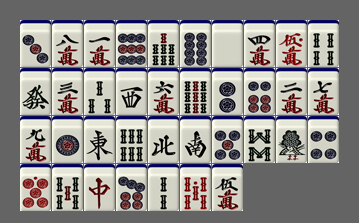0m: (276, 20, 307, 67)
0p: (20, 164, 51, 211)
0s: (180, 164, 211, 211)
1m: (84, 20, 115, 67)
1p: (52, 116, 83, 163)
1s: (276, 116, 307, 163)
1z: (84, 116, 115, 163)
2m: (276, 68, 307, 115)
2p: (212, 68, 243, 115)
2s: (148, 164, 179, 211)
2z: (180, 116, 211, 163)
3m: (52, 68, 83, 115)
3p: (20, 20, 51, 67)
3s: (84, 68, 115, 115)
3z: (116, 68, 147, 115)
4m: (244, 20, 275, 67)
4p: (308, 116, 339, 163)
4s: (308, 20, 339, 67)
4z: (148, 116, 179, 163)
5m: (212, 164, 243, 211)
5p: (212, 116, 243, 163)
5s: (52, 164, 83, 211)
5z: (212, 20, 243, 67)
6m: (148, 68, 179, 115)
6p: (244, 68, 275, 115)
6s: (116, 116, 147, 163)
6z: (20, 68, 51, 115)
7m: (308, 68, 339, 115)
7p: (116, 164, 147, 211)
7s: (148, 20, 179, 67)
7z: (84, 164, 115, 211)
8m: (52, 20, 83, 67)
8p: (180, 20, 211, 67)
8s: (244, 116, 275, 163)
9m: (20, 116, 51, 163)
9p: (116, 20, 147, 67)
9s: (180, 68, 211, 115)
